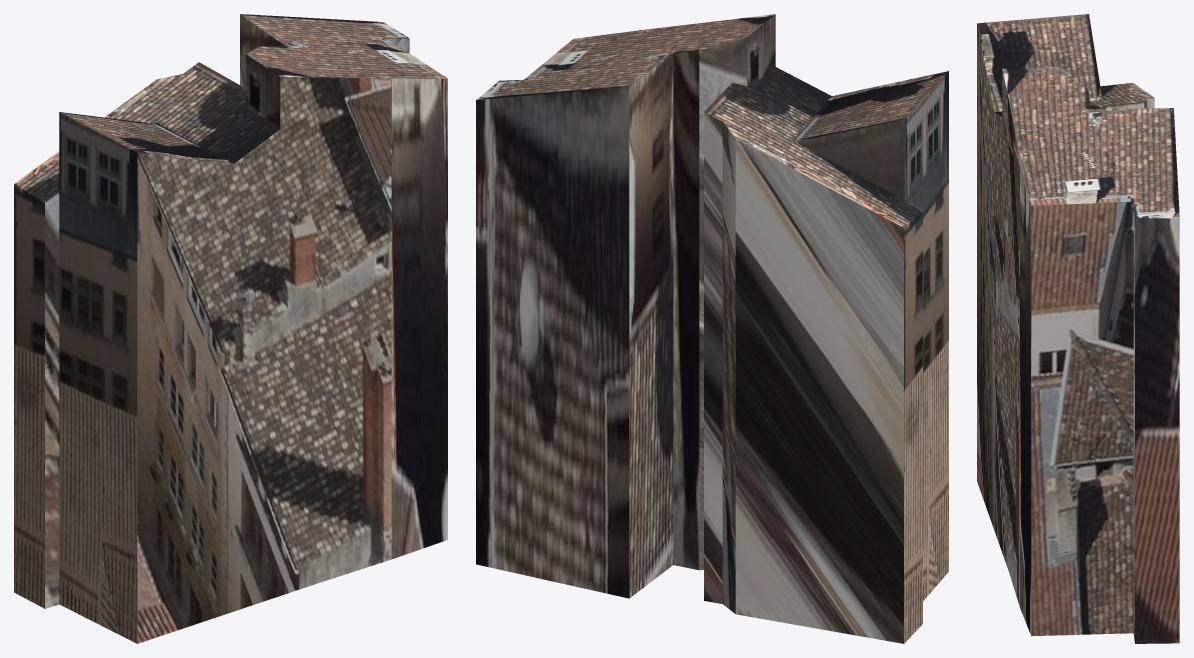
The picture shows the model from 3 angles, left to right: view 1: azimuth 30°, elevation 25°; view 2: azimuth 150°, elevation 25°; view 3: azimuth 270°, elevation 25°; orthographic projection. The views are drawn at different scales.
Visible parts, largest first — view 1: Z_UP; view 2: Z_UP; view 3: Z_UP.
Boxes of the visible parts, <box> form: Z_UP: <box>14,14,447,643</box>; Z_UP: <box>476,14,948,643</box>; Z_UP: <box>977,14,1179,643</box>.
Bounding box in the file's own units: 17.42 × 21.82 × 8.27.
2 materials, 1 textured.
